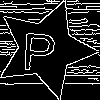P: (21, 24, 58, 71)
